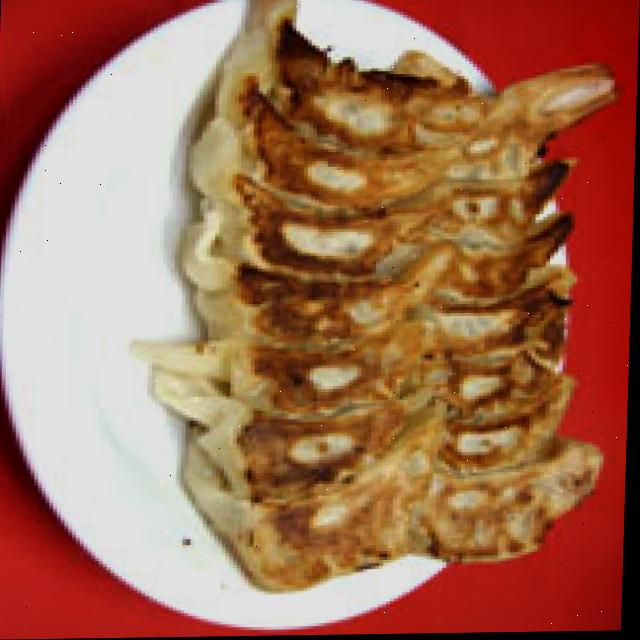带馅早点: (172, 0, 640, 606)
